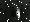person: (12, 8, 20, 20)
